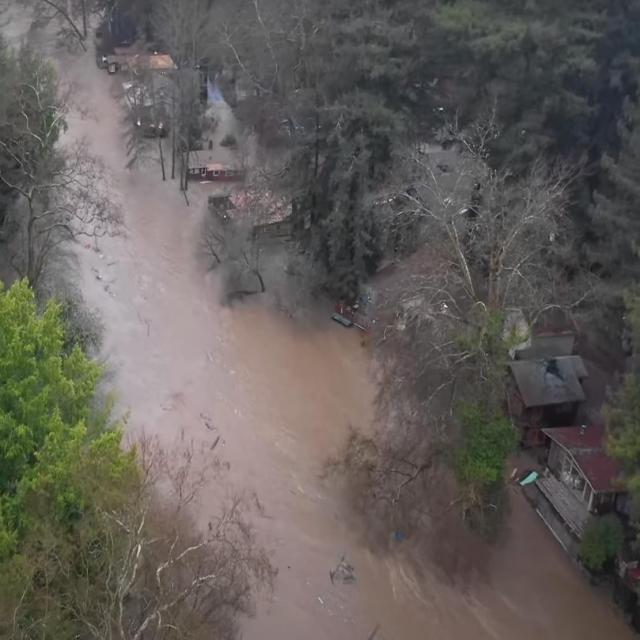flood: (59, 53, 635, 640)
house: (550, 423, 626, 517), (507, 354, 583, 435), (183, 142, 246, 185)
